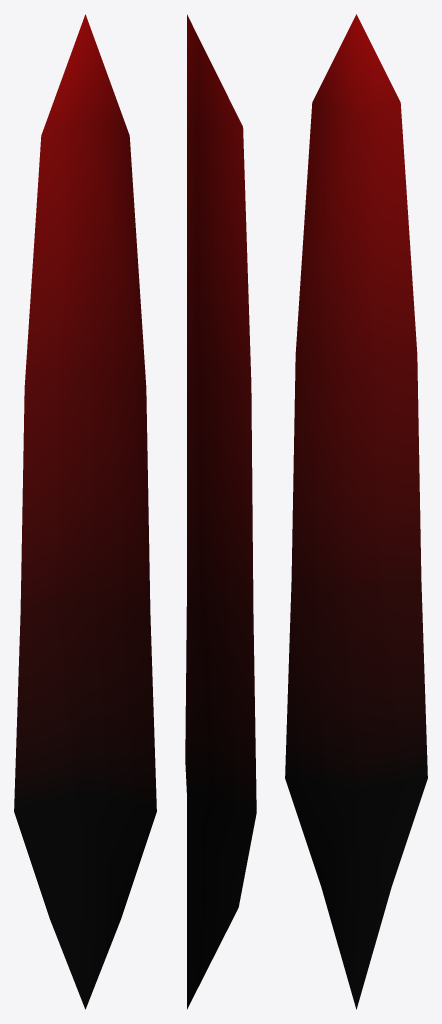
The model's file is grass_blade.glb.
3 views of the same model, side by side, from view 1: azimuth 90°, elevation 25°; view 2: azimuth 210°, elevation 25°; view 3: azimuth 270°, elevation 25° (orthographic).
Parts seen in each view (by area): view 1: Plane; view 2: Plane; view 3: Plane.
Boxes of the visible parts, x1,y1,x2,y2 form: Plane: (14, 14, 156, 1009); Plane: (185, 14, 256, 1009); Plane: (285, 14, 427, 1009).
Bounding box in the file's own units: 0.05 × 1.4 × 0.1816.
